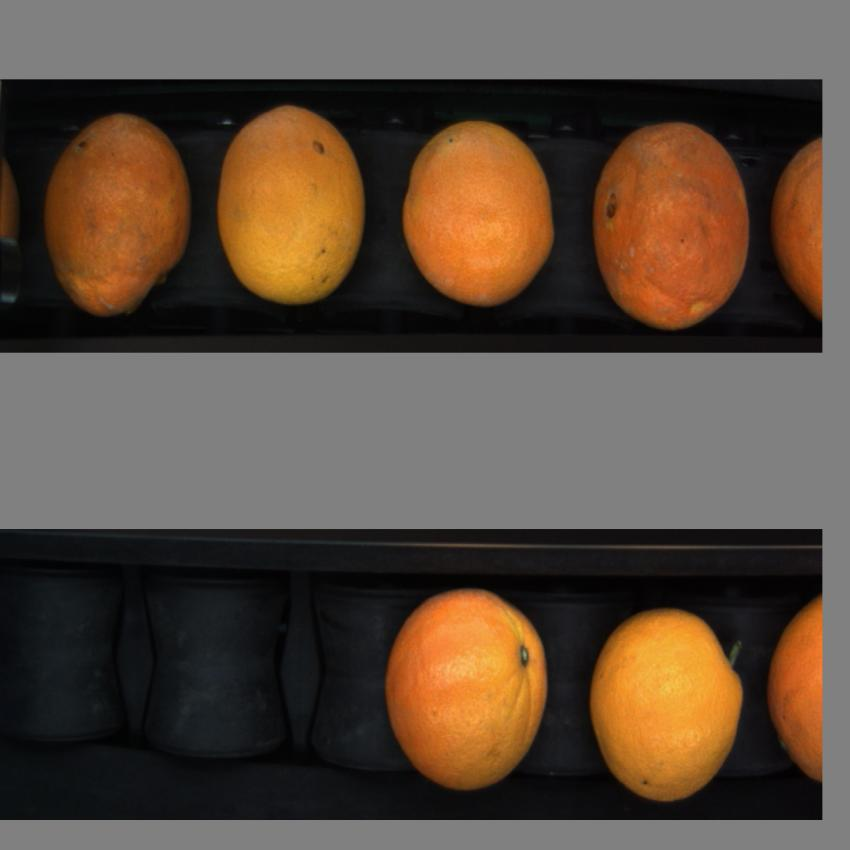Buen estado: (379, 577, 552, 793), (582, 594, 756, 808), (395, 116, 562, 315), (212, 100, 365, 308), (765, 589, 823, 790), (766, 134, 823, 328)
Mal estado: (589, 117, 757, 333), (39, 111, 197, 316)
